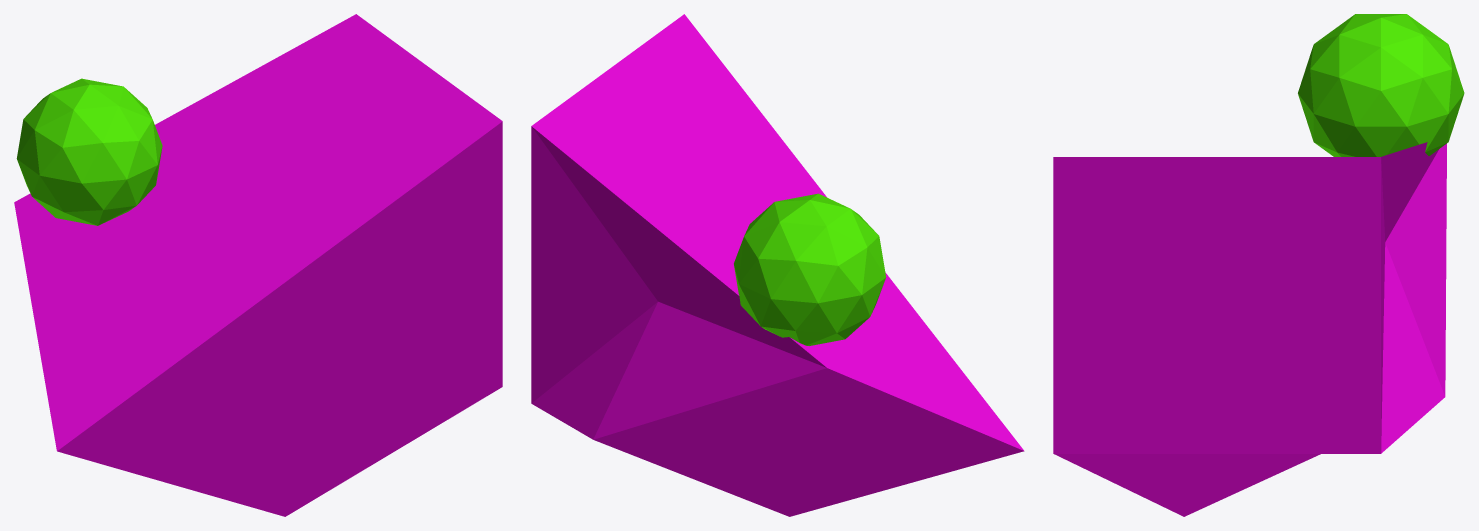
Rendered from static.fbx.
3 renders of one model, left to right at view 1: azimuth 30°, elevation 25°; view 2: azimuth 150°, elevation 25°; view 3: azimuth 270°, elevation 25°, orthographic. The views are drawn at different scales.
Parts seen in each view (by area): view 1: Cube.018; view 2: Cube.018; view 3: Cube.018.
Part boxes in pixels (x1=…): Cube.018: x1=14, y1=14, x2=502, y2=516; Cube.018: x1=531, y1=14, x2=1024, y2=516; Cube.018: x1=1053, y1=14, x2=1464, y2=516.
Size of the model in its own units: 2.51 by 3.04 by 3.01.
